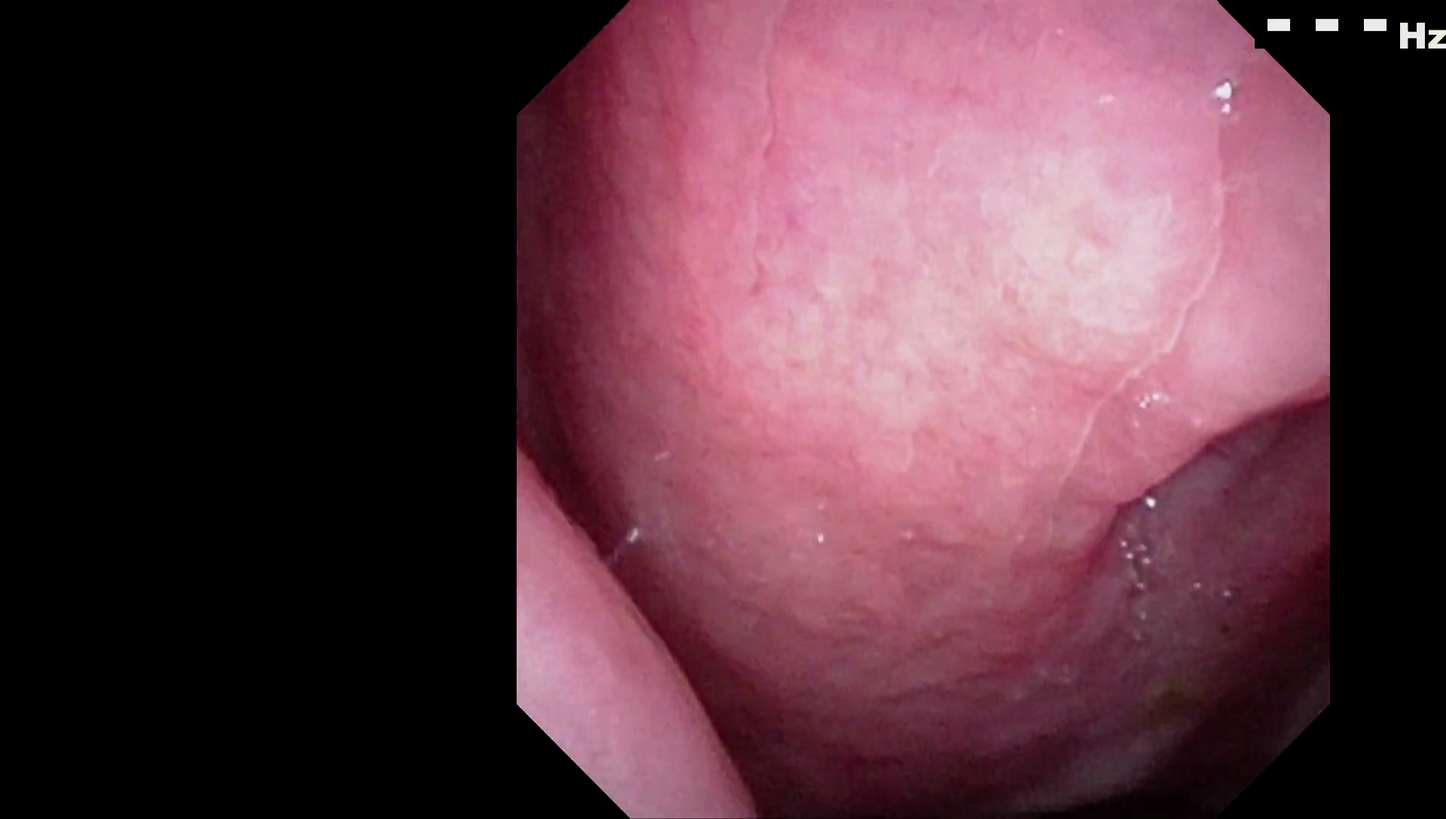close_wall: (733, 78, 1254, 501)
next: (1046, 611, 1276, 812)
